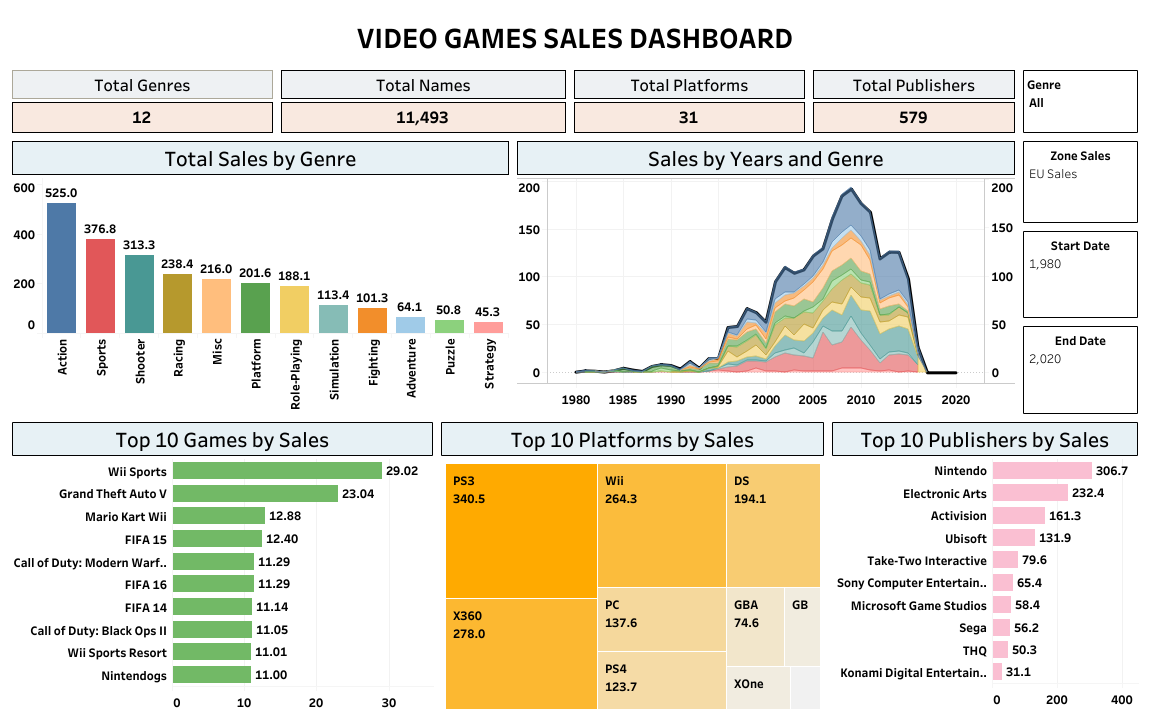

The page's visual inventory and layout, read from the dashboard file:
{"tool":"tableau","page":{"name":"Dashboard 1","canvas":[1000,1000],"units":"permille","ordinal":0},"visuals":[{"type":"worksheet","title":"Total Genres","mark":"Automatic","box":[7,10.5,234,94.7]},{"type":"worksheet","title":"Total Names","mark":"Automatic","box":[241,10.5,254.7,94.7]},{"type":"worksheet","title":"Total Platforms","mark":"Automatic","box":[495.7,10.5,207.9,94.7]},{"type":"worksheet","title":"Total Publishers","mark":"Automatic","box":[703.5,10.5,182.5,94.7]},{"type":"filter","title":"Sales by Years and Genre","param":"[federated.1huxinq03pc3xm16cu9hv1qe3hqg].[none:Genre:nk]","box":[886.1,10.5,107,113.7]},{"type":"worksheet","title":"Total Sales by Genre","mark":"Automatic","rows":["Calculation_876231616696320000"],"cols":["Genre"],"box":[7,105.3,439.5,471.1]},{"type":"worksheet","title":"Sales by Years and Genre","mark":"Automatic","rows":["Calculation_876231616696320000","Calculation_876231616696320000"],"cols":["Year"],"box":[446.5,105.3,439.6,471.1]},{"type":"parameter","param":"[Parameters].[Parameter 1]","box":[886.1,124.2,107,118.4]},{"type":"parameter","param":"[Parameters].[Parameter 2]","box":[886.1,242.7,107,148.7]},{"type":"parameter","param":"[Parameters].[Parameter 3]","box":[886.1,391.4,107,163.2]},{"type":"worksheet","title":"Top 10 Games by Sales","mark":"Bar","rows":["Name"],"cols":["Calculation_876231616696320000"],"box":[7,576.3,373,413.2]},{"type":"worksheet","title":"Top 10 Platforms by Sales","mark":"Automatic","box":[380,576.3,340,413.2]},{"type":"worksheet","title":"Top 10 Publishers by Sales","mark":"Automatic","rows":["Publisher"],"cols":["Calculation_876231616696320000"],"box":[720,576.3,273,413.2]}]}

Visuals, with their boxes on the dashboard's canvas, which has no fixed pixel size, in thousandths of its width and height (x1, y1, x2, y2). These are canvas units, not pixel positions in the 1149x724 screenshot, which may show the page scaled, cropped or inside an application window:
"Total Genres" worksheet: [left=7, top=10, right=241, bottom=105]
"Total Names" worksheet: [left=241, top=10, right=496, bottom=105]
"Total Platforms" worksheet: [left=496, top=10, right=704, bottom=105]
"Total Publishers" worksheet: [left=704, top=10, right=886, bottom=105]
"Sales by Years and Genre" filter: [left=886, top=10, right=993, bottom=124]
"Total Sales by Genre" worksheet: [left=7, top=105, right=446, bottom=576]
"Sales by Years and Genre" worksheet: [left=446, top=105, right=886, bottom=576]
parameter: [left=886, top=124, right=993, bottom=243]
parameter: [left=886, top=243, right=993, bottom=391]
parameter: [left=886, top=391, right=993, bottom=555]
"Top 10 Games by Sales" worksheet (Bar marks): [left=7, top=576, right=380, bottom=990]
"Top 10 Platforms by Sales" worksheet: [left=380, top=576, right=720, bottom=990]
"Top 10 Publishers by Sales" worksheet: [left=720, top=576, right=993, bottom=990]
